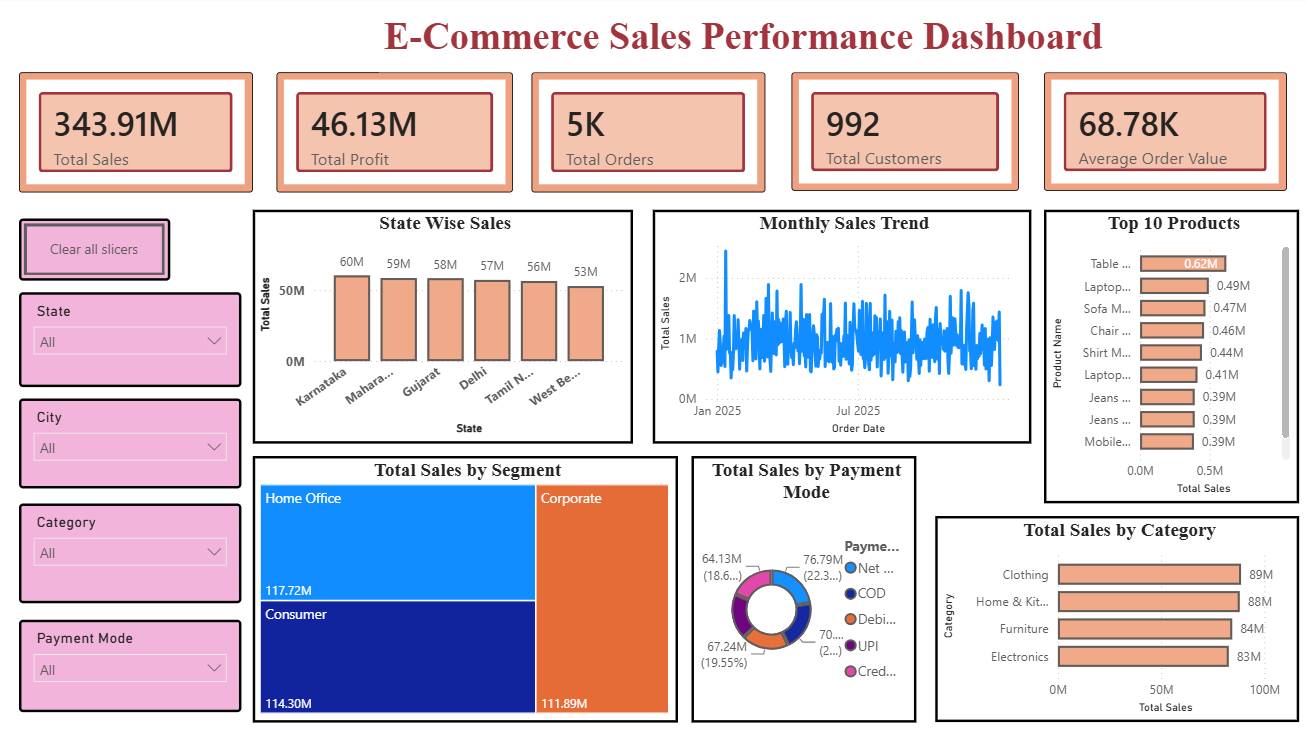

This screenshot's page, from the dashboard's own definition file:
{"tool":"powerbi","page":{"name":"Page 1","canvas":[1280,720],"ordinal":0},"visuals":[{"type":"cardVisual","fields":{"Data":["orders.Total Profit"]},"box":[271.5,74.6,231.1,117.4],"z":0},{"type":"cardVisual","fields":{"Data":["orders.Total Orders"]},"box":[520.9,74.6,228.7,117.4],"z":1000},{"type":"cardVisual","fields":{"Data":["orders.Total Customers"]},"box":[775.3,74.6,222.6,116.2],"z":2000},{"type":"cardVisual","fields":{"Data":["orders.Average Order Value"]},"box":[1022.3,74.6,237.2,116.2],"z":3000},{"type":"lineChart","title":"Monthly Sales Trend ","fields":{"Category":["orders.Order Date.Variation.Date Hierarchy.Month"],"Y":["orders.Total Sales"]},"box":[639.5,209.1,370.5,228.7],"z":4000},{"type":"clusteredBarChart","fields":{"Y":["orders.Total Sales"],"Category":["orders.Category"]},"box":[915.9,508.7,355.8,201.8],"z":5000},{"type":"donutChart","fields":{"Category":["orders.Payment Mode"],"Y":["orders.Total Sales"]},"box":[677.4,450,220.1,260.5],"z":6000},{"type":"columnChart","title":"State Wise Sales ","fields":{"Category":["orders.State"],"Y":["orders.Total Sales"]},"box":[248.2,209.1,371.7,228.7],"z":7000},{"type":"clusteredBarChart","title":"Top 10 Products","fields":{"Category":["orders.Product Name"],"Y":["orders.Total Sales"]},"box":[1022.3,209.1,249.5,287.4],"z":8000},{"type":"treemap","fields":{"Group":["orders.Segment"],"Values":["orders.Total Sales"]},"box":[248.2,450,415.8,260.5],"z":9000},{"type":"slicer","fields":{"Values":["orders.State"]},"box":[19.6,289.8,217.7,92.9],"z":10000},{"type":"slicer","fields":{"Values":["orders.Category"]},"box":[19.6,496.5,217.7,97.8],"z":11000},{"type":"slicer","fields":{"Values":["orders.Payment Mode"]},"box":[19.6,610.2,217.7,90.5],"z":12000},{"type":"actionButton","box":[19.6,217.7,148,61.1],"z":13000},{"type":"cardVisual","fields":{"Data":["orders.Total Sales"]},"box":[19.6,74.6,228.7,117.4],"z":14000},{"type":"textbox","box":[371.7,12.2,887.8,62.4],"z":15000},{"type":"slicer","fields":{"Values":["orders.City"]},"box":[19.6,393.8,217.7,88],"z":16000}]}

Visuals, with their boxes in screenshot pixels (x1, y1, x2, y2), scaled from the page's 1280x720 canvas onto the 1307x731 screenshot:
cardVisual - orders.Total Profit: (277, 76, 513, 195)
cardVisual - orders.Total Orders: (532, 76, 765, 195)
cardVisual - orders.Total Customers: (792, 76, 1019, 194)
cardVisual - orders.Average Order Value: (1044, 76, 1286, 194)
"Monthly Sales Trend " lineChart: (653, 212, 1031, 444)
clusteredBarChart - orders.Total Sales x orders.Category: (935, 516, 1299, 721)
donutChart - orders.Payment Mode x orders.Total Sales: (692, 457, 916, 721)
"State Wise Sales " columnChart: (253, 212, 633, 444)
"Top 10 Products" clusteredBarChart: (1044, 212, 1299, 504)
treemap - orders.Segment x orders.Total Sales: (253, 457, 678, 721)
slicer - orders.State: (20, 294, 242, 389)
slicer - orders.Category: (20, 504, 242, 603)
slicer - orders.Payment Mode: (20, 620, 242, 711)
actionButton: (20, 221, 171, 283)
cardVisual - orders.Total Sales: (20, 76, 254, 195)
textbox: (380, 12, 1286, 76)
slicer - orders.City: (20, 400, 242, 489)
